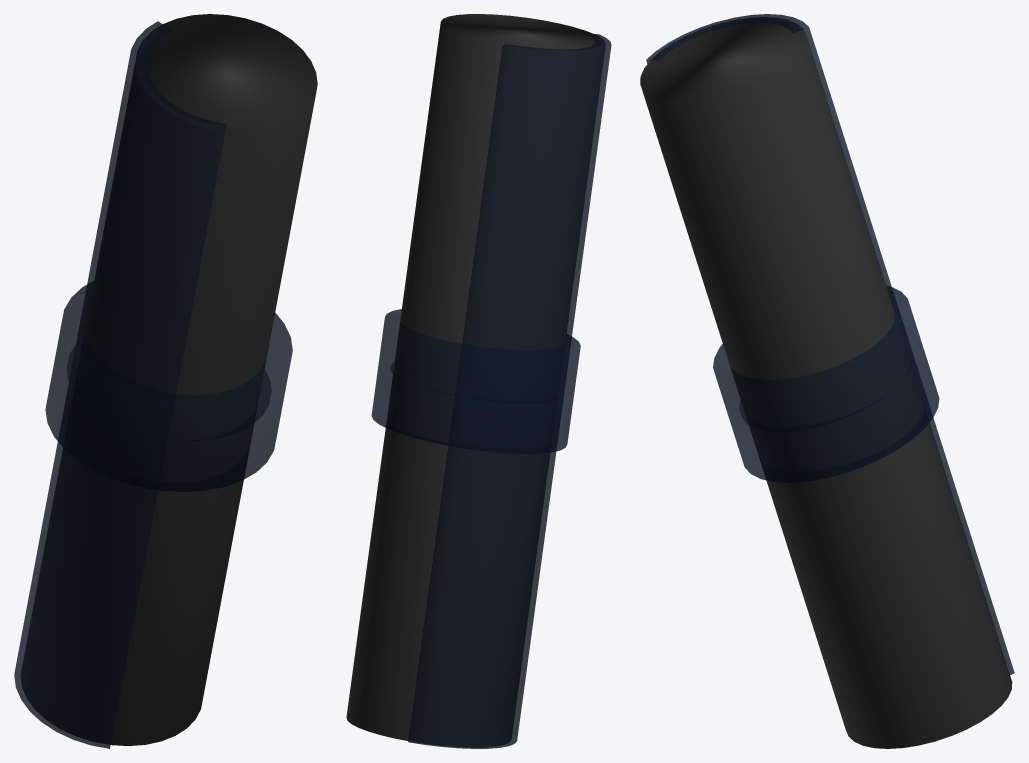
File: left upper arm.fbx
3 renders of one model, left to right at view 1: azimuth 30°, elevation 25°; view 2: azimuth 150°, elevation 25°; view 3: azimuth 270°, elevation 25°, orthographic. The views are drawn at different scales.
Parts seen in each view (by area): view 1: Left_Upper Arm, Left_Upper Arm Decor; view 2: Left_Upper Arm, Left_Upper Arm Decor; view 3: Left_Upper Arm, Left_Upper Arm Decor.
Part boxes in pixels (x1,y1,x2,y2): Left_Upper Arm: [20, 14, 317, 745]; Left_Upper Arm Decor: [14, 21, 292, 748]; Left_Upper Arm: [346, 14, 605, 747]; Left_Upper Arm Decor: [371, 33, 611, 748]; Left_Upper Arm: [640, 17, 1012, 748]; Left_Upper Arm Decor: [646, 14, 1014, 674].
Bounding box in the file's own units: 242 × 865 × 424.
